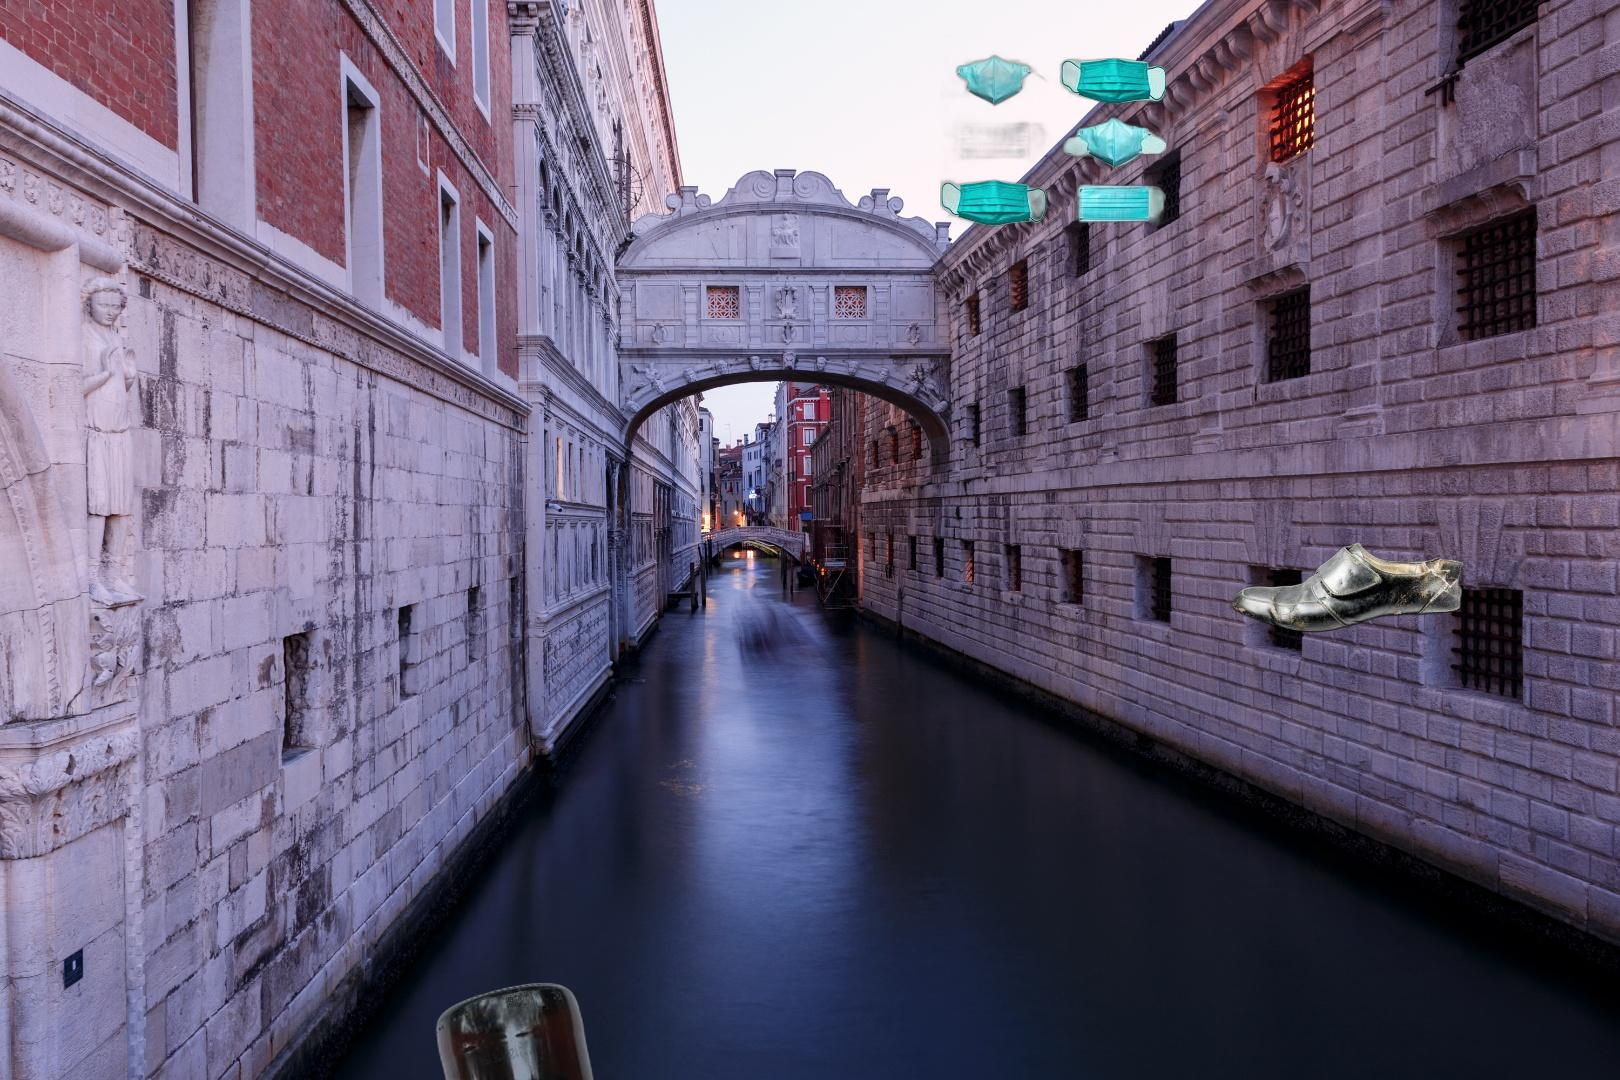glass: (432, 979, 644, 1080)
shoes: (1228, 538, 1467, 636)
trash: (940, 34, 1166, 257)
